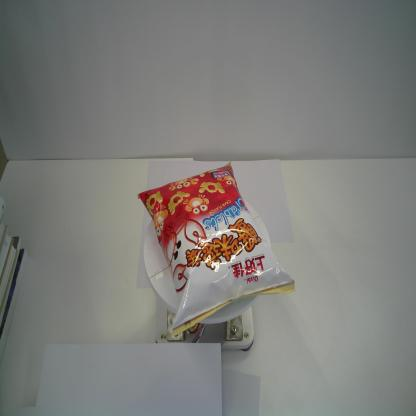Puffed Food: (136, 160, 297, 338)
